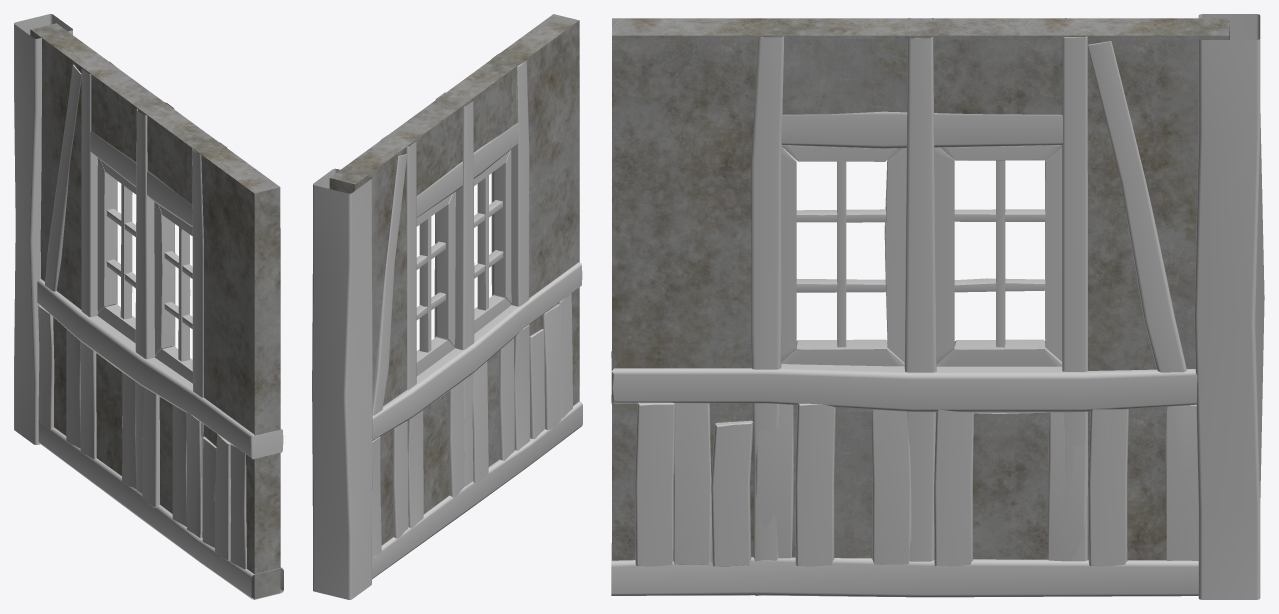
File: SM_Wall18.fbx
The picture shows the model from 3 angles, left to right: view 1: azimuth 30°, elevation 25°; view 2: azimuth 150°, elevation 25°; view 3: azimuth 270°, elevation 25°; orthographic projection. The views are drawn at different scales.
Parts seen in each view (by area): view 1: SM_Wall18_LOD0; view 2: SM_Wall18_LOD0; view 3: SM_Wall18_LOD0.
Part boxes in pixels (x1=…): SM_Wall18_LOD0: x1=14, y1=14, x2=283, y2=599; SM_Wall18_LOD0: x1=312, y1=14, x2=582, y2=599; SM_Wall18_LOD0: x1=611, y1=14, x2=1264, y2=599.
Size of the model in its own units: 33.96 by 317 by 302.
